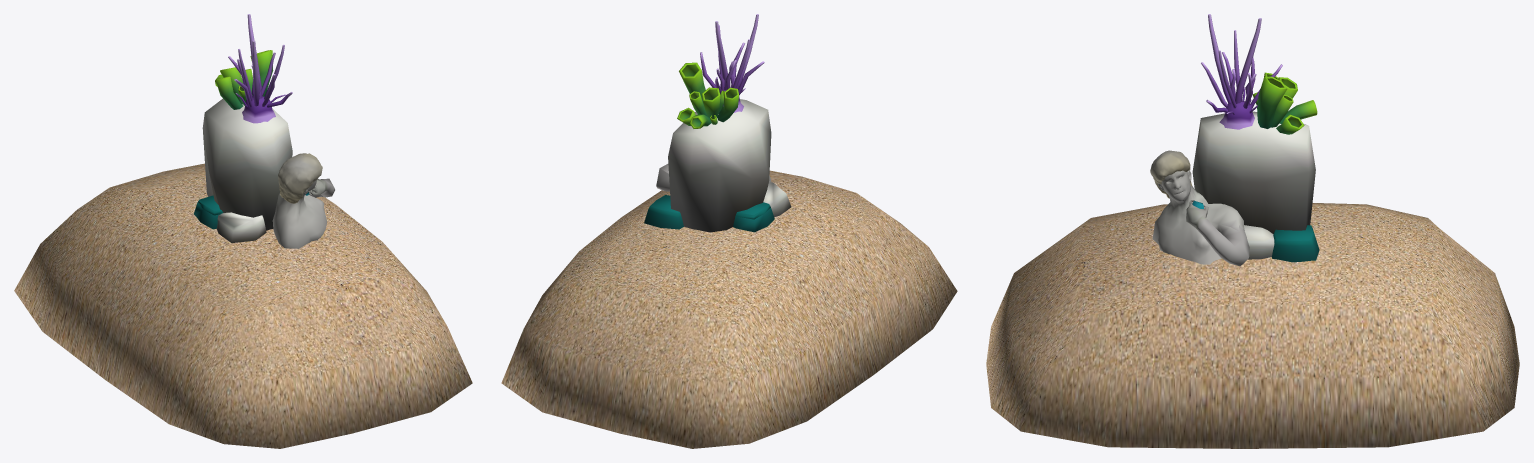
The model's file is track7Structure1.glb.
3 views of the same model, side by side, from view 1: azimuth 30°, elevation 25°; view 2: azimuth 150°, elevation 25°; view 3: azimuth 270°, elevation 25° (orthographic). The views are drawn at different scales.
Visible parts, largest first — view 1: Cube.021_MainPlant_0; view 2: Cube.021_MainPlant_0; view 3: Cube.021_MainPlant_0.
Part boxes in pixels (x1,y1,x2,y2): Cube.021_MainPlant_0: [14, 14, 472, 448]; Cube.021_MainPlant_0: [501, 14, 957, 448]; Cube.021_MainPlant_0: [986, 14, 1519, 448].
Size of the model in its own units: 5.42 by 6.02 by 7.89.
2 materials, 2 textured.
